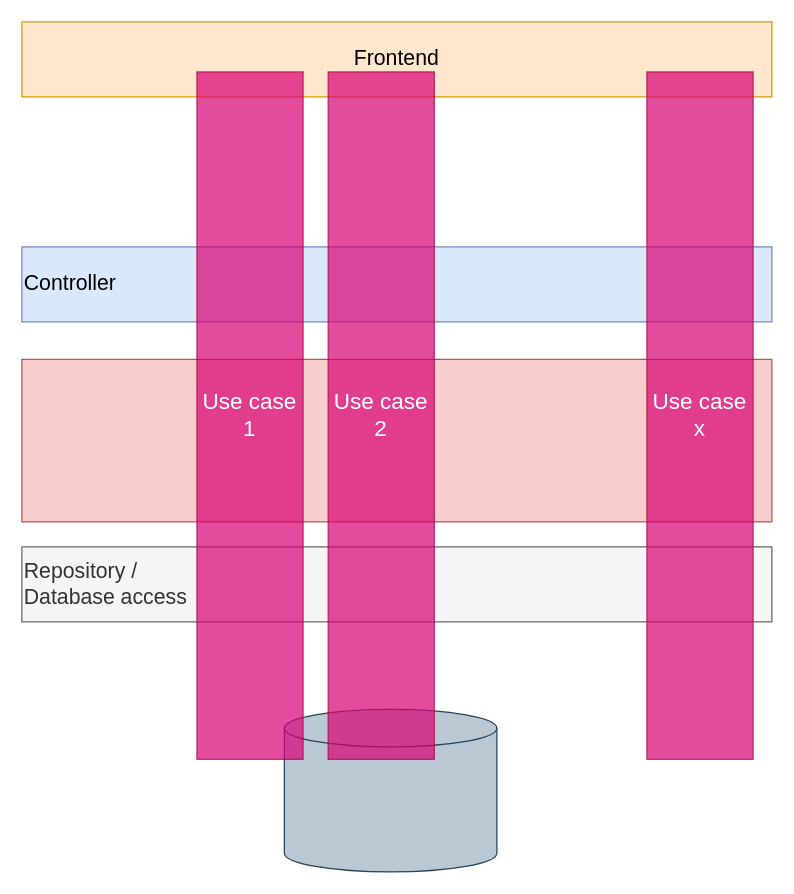
Some shapes in this 794 by 894 pixel diagram are drawn without their labels. The shapes that lost their labels are listed below. From the top down, each one's box as (x1, y1, x2, y2) in pixels, then its label:
(21, 358, 772, 522): Service
(283, 708, 497, 872): Database
